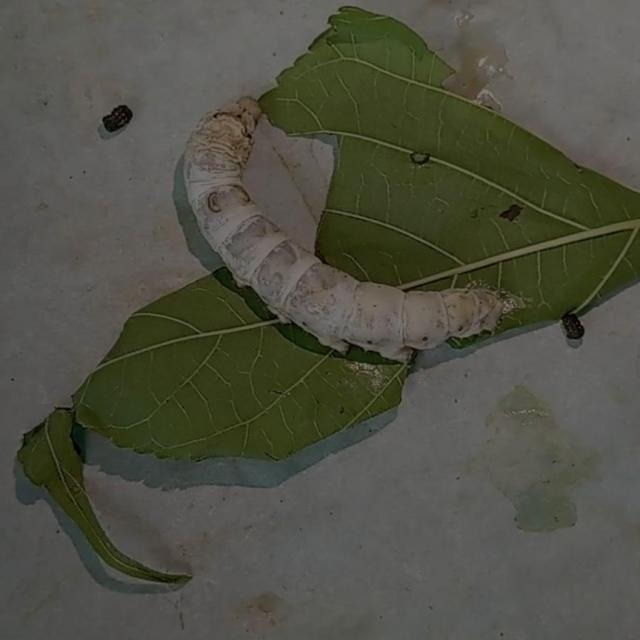Grasserie: (145, 79, 538, 368)
